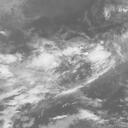cyclone: (36, 47, 95, 96)
